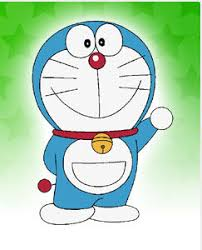doraemon: (30, 19, 174, 225)
